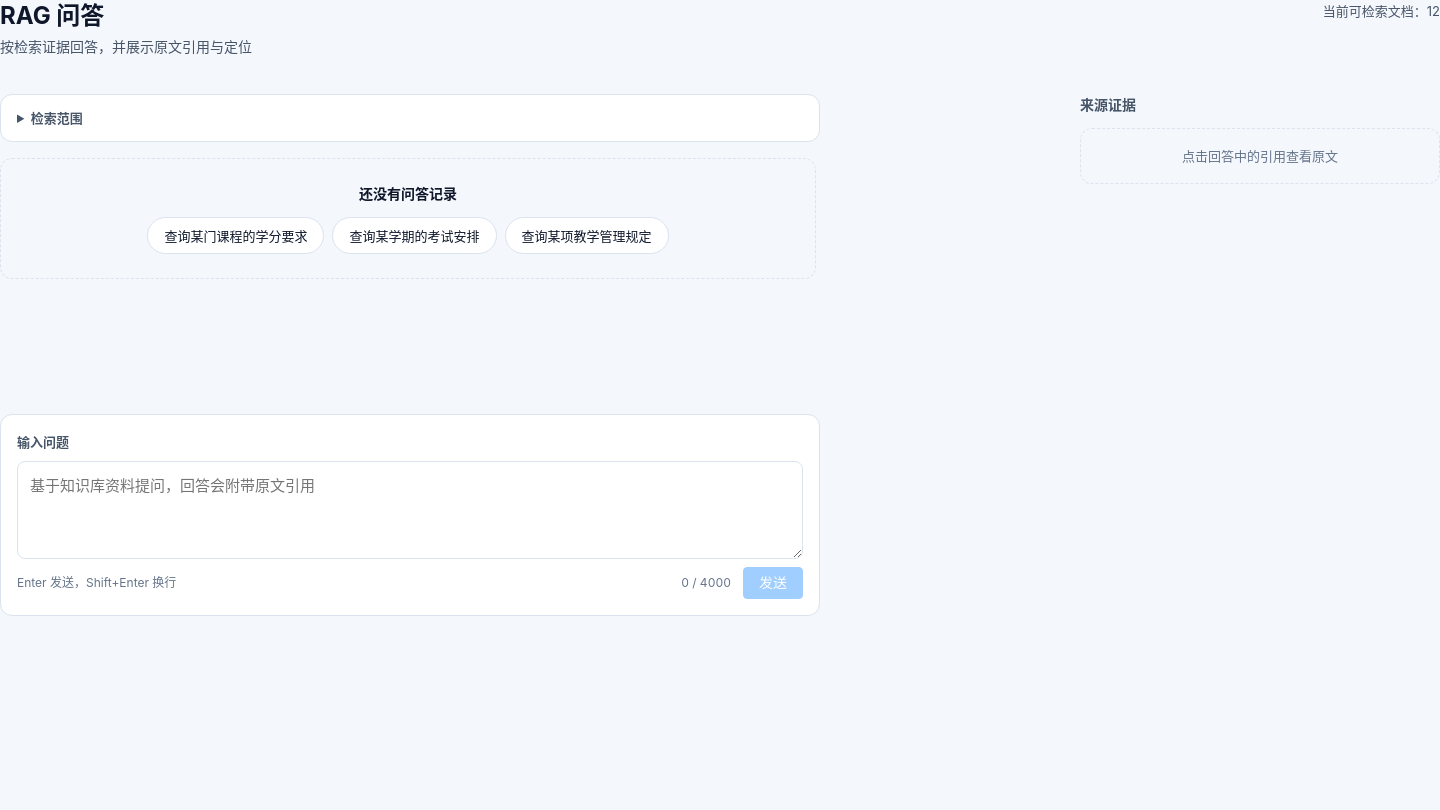
Test: ChatView answering flow › renders a neutral refusal card with its reason and no citations
This screenshot has width=1440, height=810.
Type "无依据的问题" into the text box labelled "输入问题" at (410, 510), box [17, 461, 803, 559]
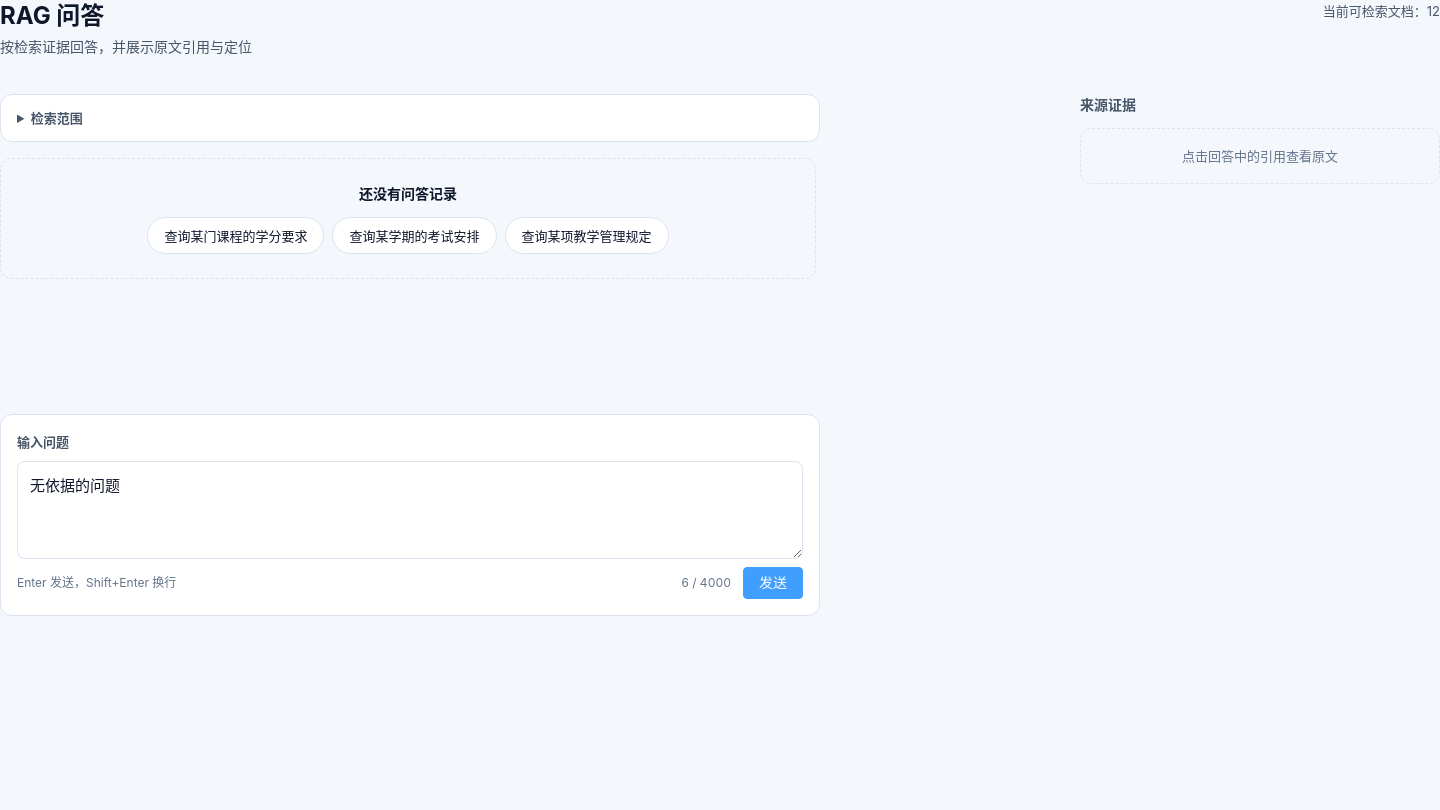
Press Enter in the text box labelled "输入问题", box [17, 461, 803, 559]
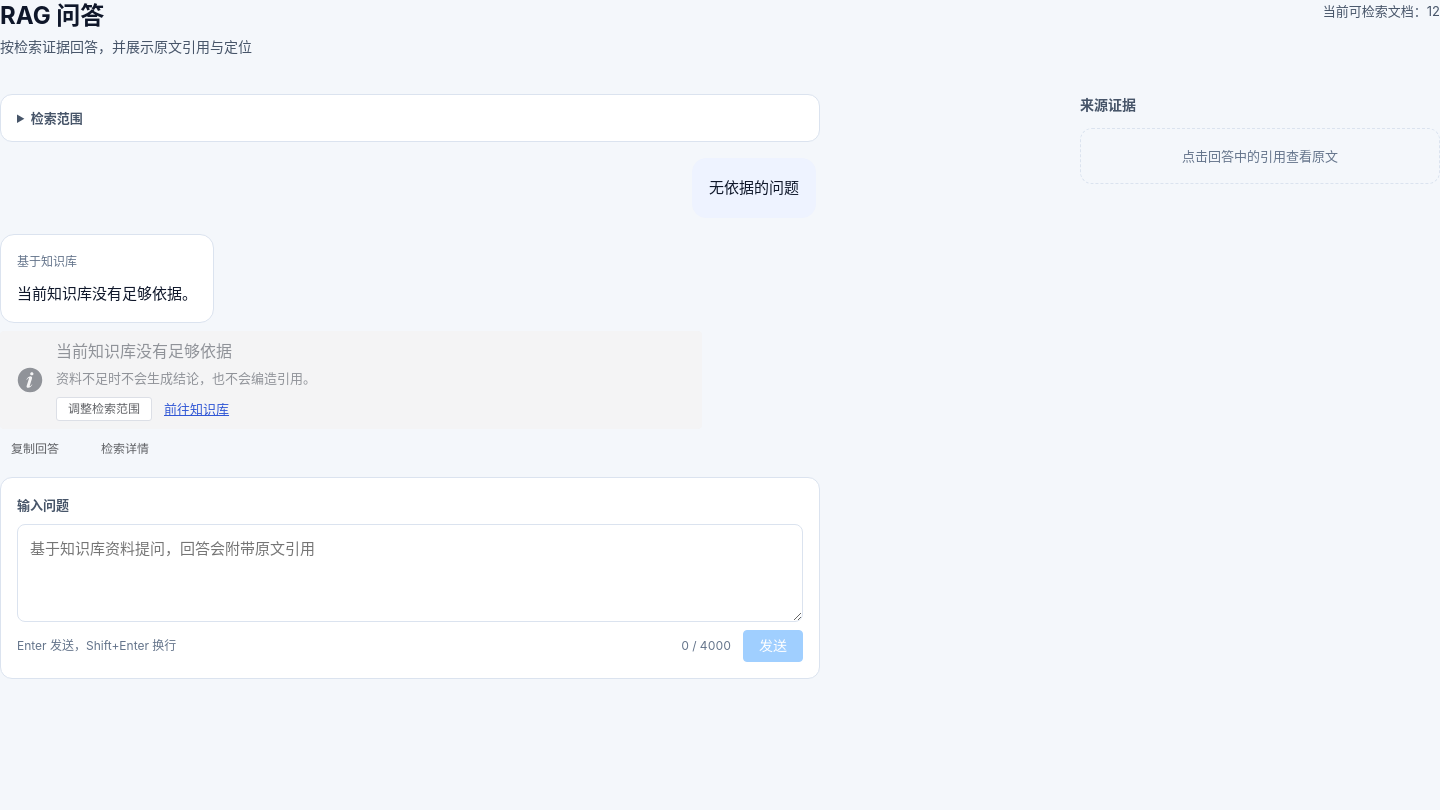
Expected: the element with class "ep-msg__card--refused" is shown, [0, 331, 702, 429]
Expected: the element with class "ep-msg__card--refused" shows "当前知识库没有足够依据", [56, 341, 232, 361]
Click the button with class "ep-msg__action--details" at (125, 449), box [90, 437, 160, 461]
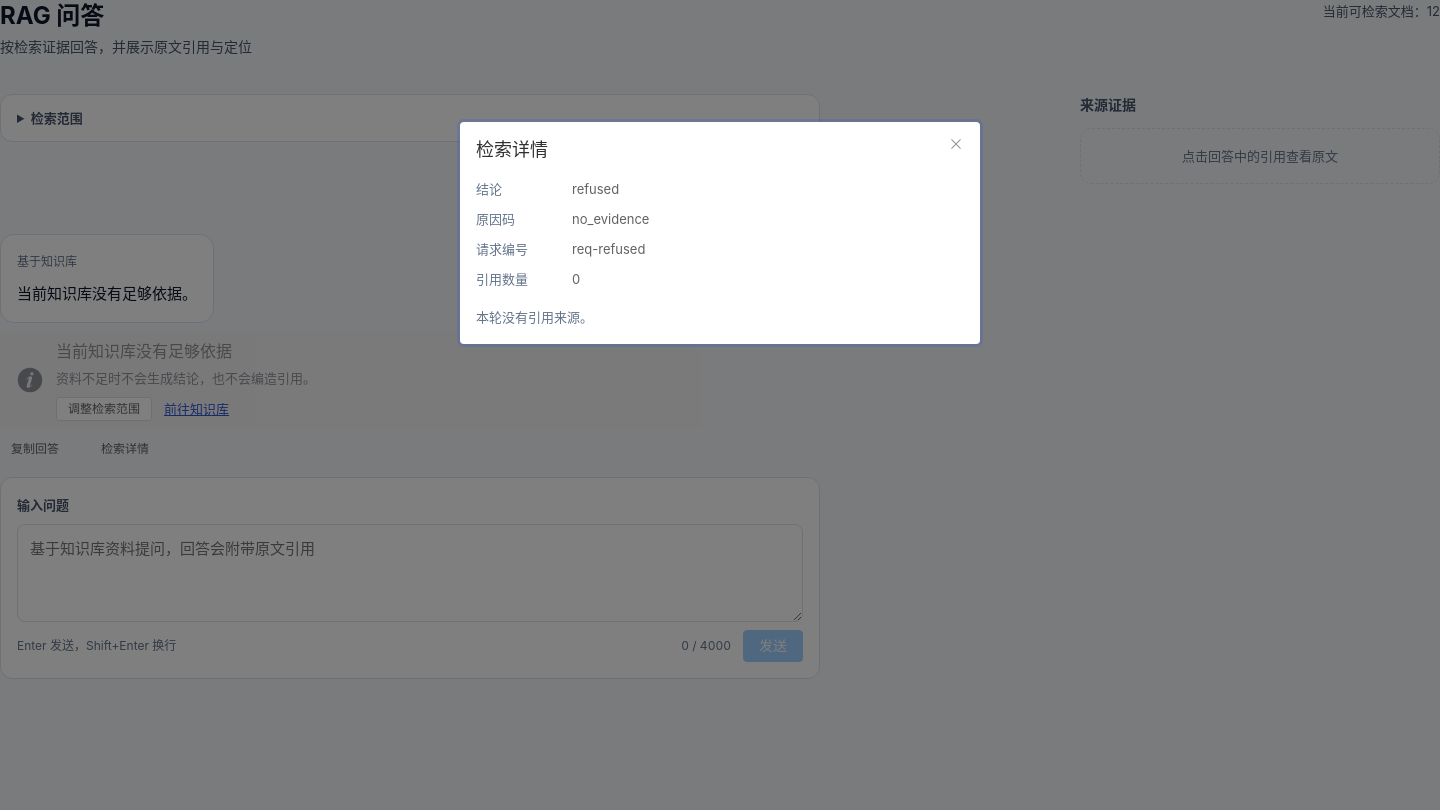
Expected: the element with class "ep-details" shows "no_evidence", [572, 210, 649, 226]
